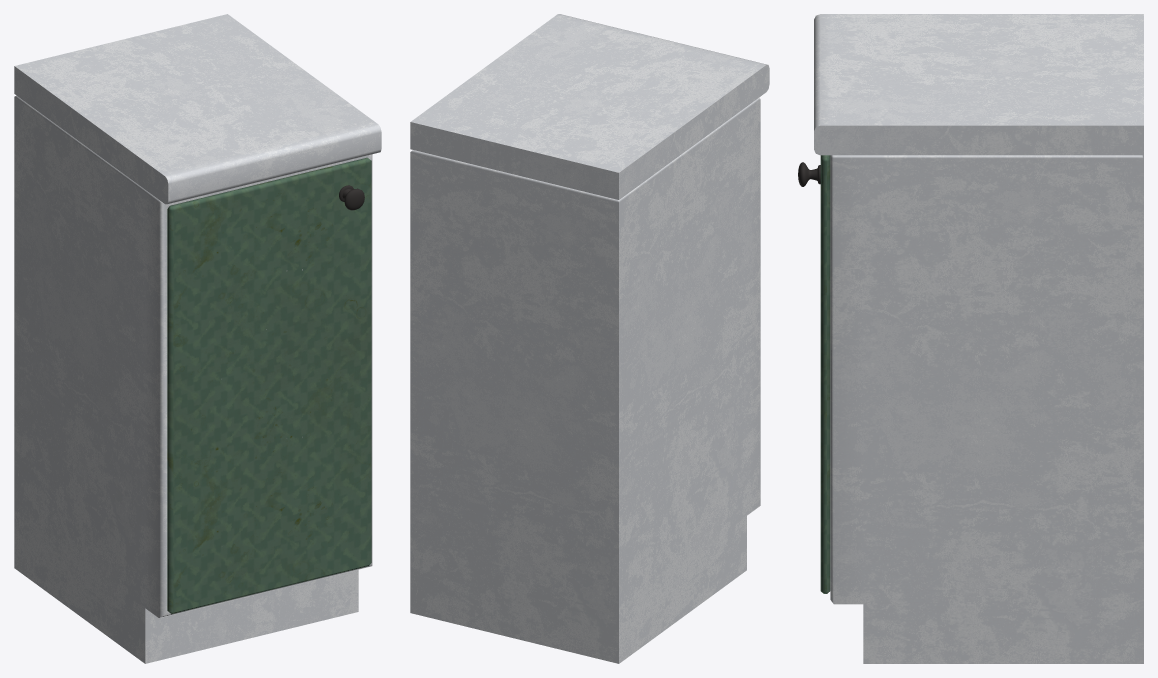
The model's file is Cabinet_A_1.fbx.
The picture shows the model from 3 angles, left to right: view 1: azimuth 30°, elevation 25°; view 2: azimuth 150°, elevation 25°; view 3: azimuth 270°, elevation 25°; orthographic projection. The views are drawn at different scales.
Visible parts, largest first — view 1: Cabinet_A_1, Cabinet_A_1_Drawer; view 2: Cabinet_A_1; view 3: Cabinet_A_1, Cabinet_A_1_Drawer.
Boxes of the visible parts, x1,y1,x2,y2 form: Cabinet_A_1: [14, 14, 381, 663]; Cabinet_A_1_Drawer: [167, 157, 371, 613]; Cabinet_A_1: [410, 14, 769, 663]; Cabinet_A_1: [814, 14, 1143, 663]; Cabinet_A_1_Drawer: [798, 155, 830, 593].
Bounding box in the file's own units: 40 × 90 × 52.4.
